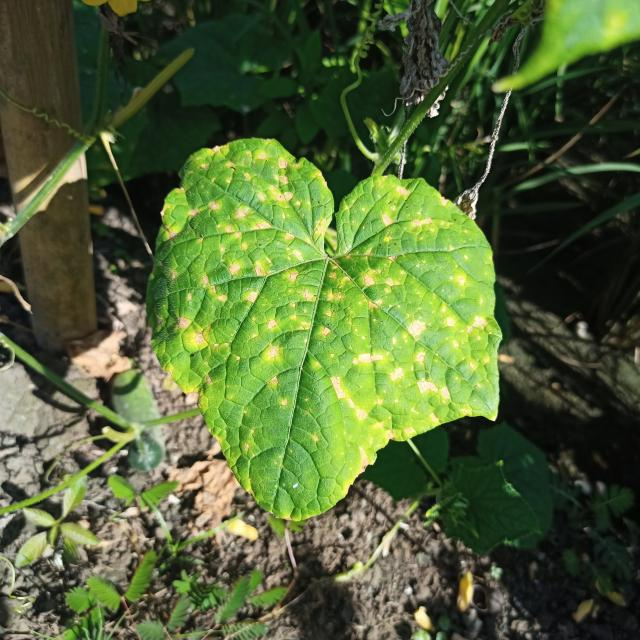disease_cucumber: (158, 144, 491, 473)
